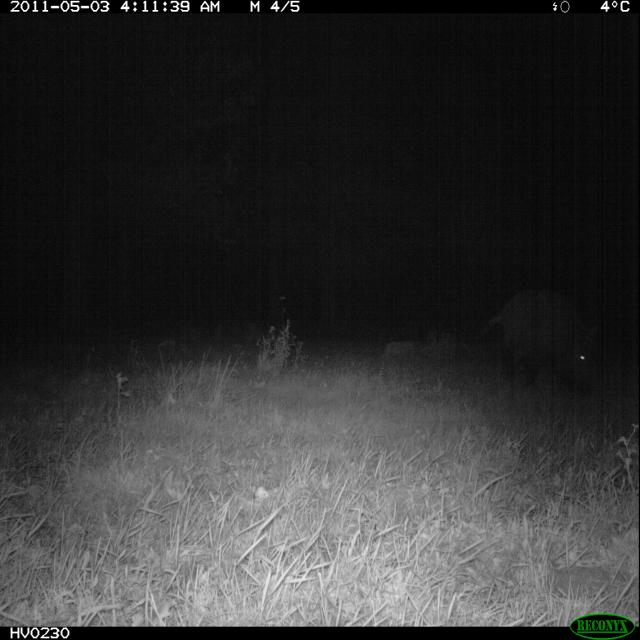boar: (458, 253, 630, 408)
